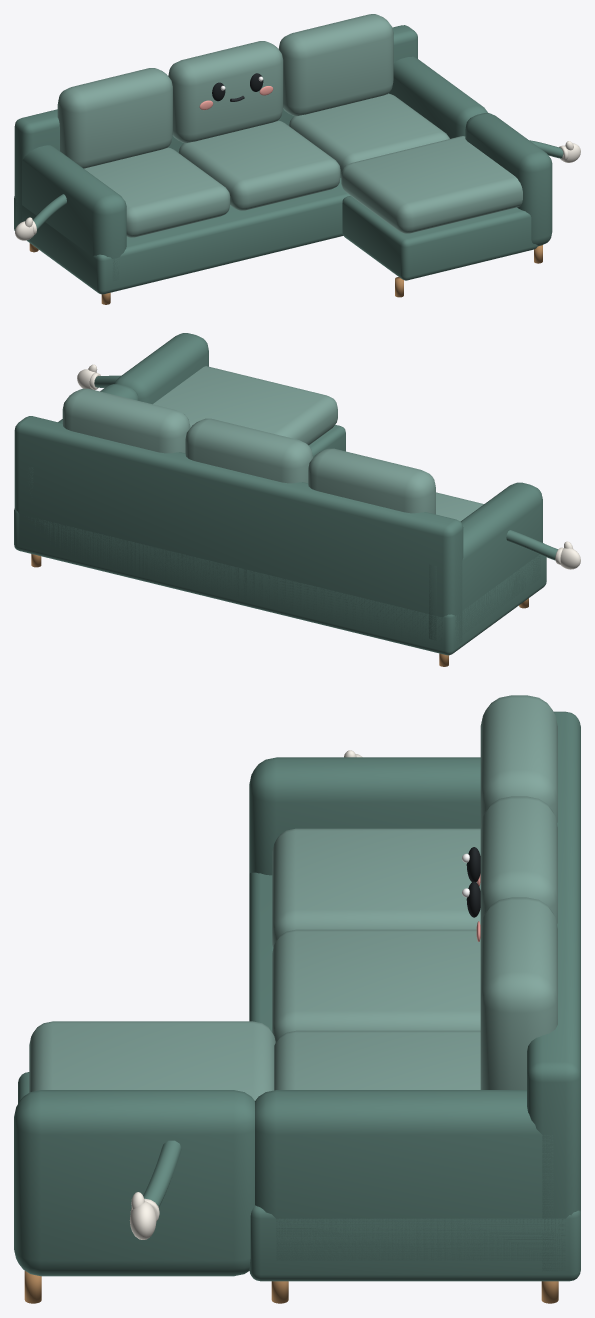
File: sofa-corner.glb
3 renders of one model, top to bottom at view 1: azimuth 30°, elevation 25°; view 2: azimuth 150°, elevation 25°; view 3: azimuth 270°, elevation 25°, orthographic. The views are drawn at different scales.
Visible parts, largest first — view 1: Upholstery.002, Arm_L.002, Arm_R.002, Legs.002; view 2: Upholstery.002, Arm_L.002, Arm_R.002; view 3: Upholstery.002, Arm_R.002, Legs.002.
Boxes of the visible parts, x1,y1,x2,y2 form: Upholstery.002: (14,14,552,294); Arm_L.002: (15,194,66,240); Arm_R.002: (529,140,580,162); Legs.002: (29,243,542,304); Upholstery.002: (14,333,546,655); Arm_L.002: (506,530,580,569); Arm_R.002: (77,364,120,389); Upholstery.002: (14,695,580,1281); Arm_R.002: (129,1140,181,1239); Legs.002: (24,1271,558,1303).
Bounding box in the file's own units: 2.86 × 0.8499 × 1.47.
